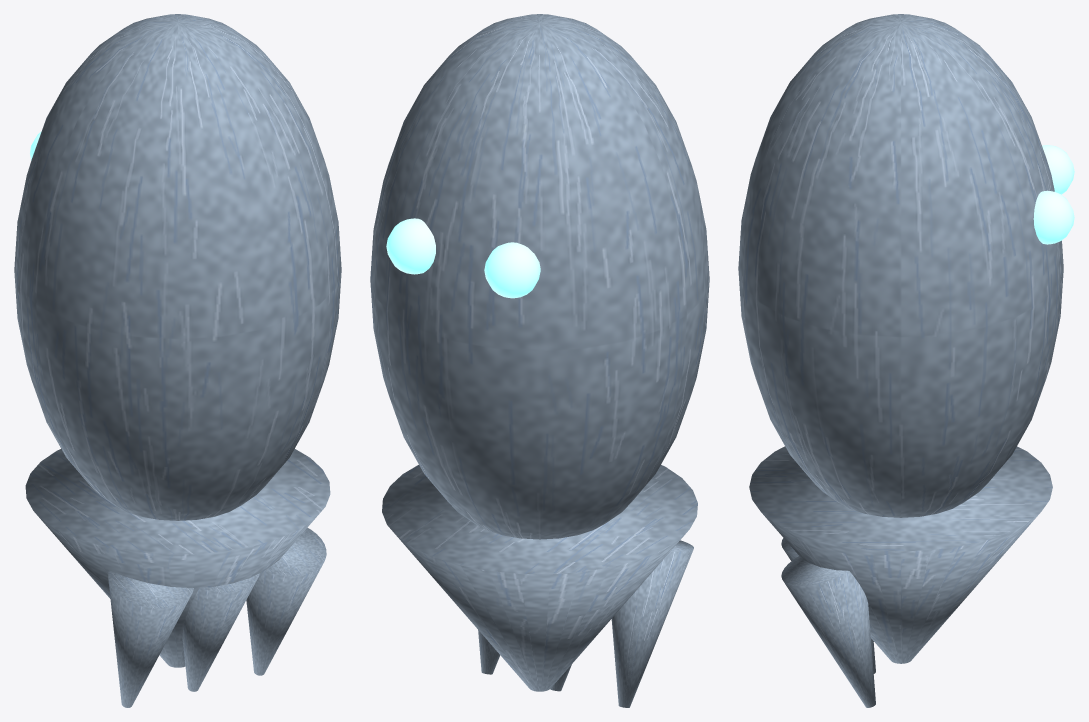
The model's file is storm-wraith.glb.
3 views of the same model, side by side, from view 1: azimuth 30°, elevation 25°; view 2: azimuth 150°, elevation 25°; view 3: azimuth 270°, elevation 25° (orthographic). The views are drawn at different scales.
Parts seen in each view (by area): view 1: Body, Tail, Tatter, Tatter.002, Tatter.001; view 2: Body, Tail, Tatter, Eye, Eye.001, Tatter.002; view 3: Body, Tail, Tatter.002, Eye.001, Eye.
Boxes of the visible parts, left/top/right/bottom form: Body: left=14, top=14, right=341, bottom=520; Tail: left=25, top=449, right=330, bottom=667; Tatter: left=108, top=570, right=193, bottom=707; Tatter.002: left=246, top=528, right=326, bottom=675; Tatter.001: left=182, top=573, right=259, bottom=691; Body: left=370, top=14, right=709, bottom=539; Tail: left=382, top=465, right=697, bottom=691; Tatter: left=611, top=540, right=693, bottom=707; Eye: left=484, top=242, right=540, bottom=298; Eye.001: left=386, top=218, right=435, bottom=274; Tatter.002: left=478, top=630, right=500, bottom=674; Body: left=738, top=14, right=1063, bottom=517; Tail: left=749, top=446, right=1052, bottom=663; Tatter.002: left=781, top=556, right=875, bottom=707; Eye.001: left=1033, top=190, right=1074, bottom=244; Eye: left=1042, top=145, right=1074, bottom=194.
Bounding box in the file's own units: 0.4455 × 0.9846 × 0.4603.
Materials: 2 (1 with a texture image).
